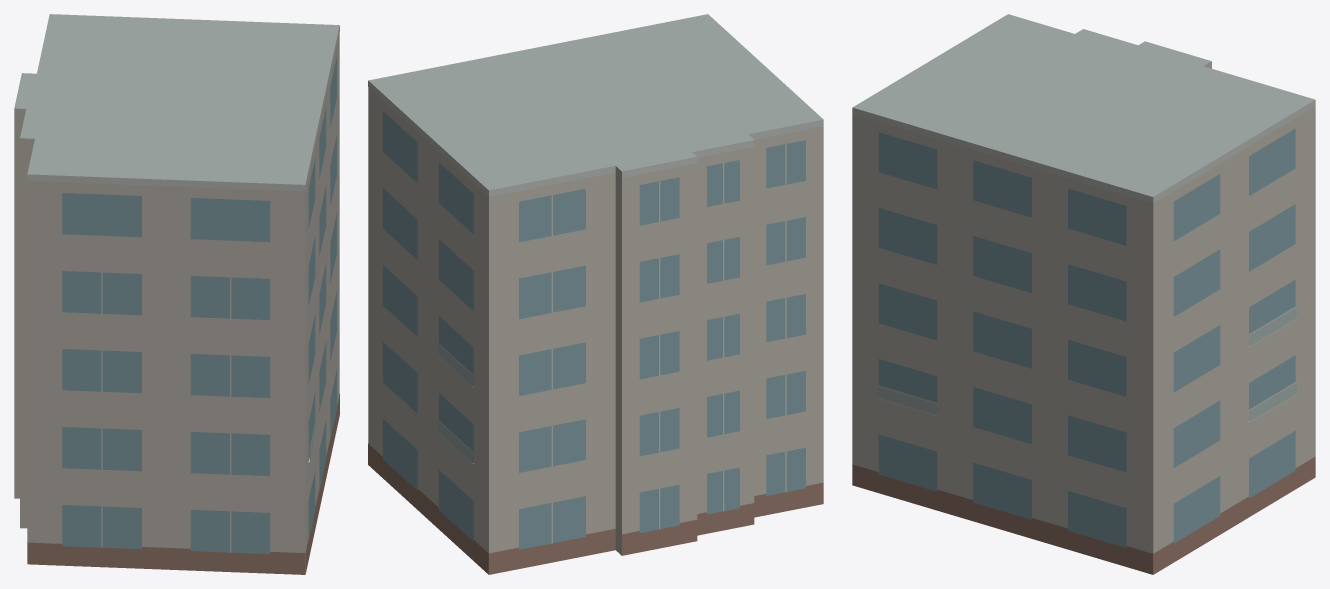
File: survey-upis-32667752.glb
3 views of the same model, side by side, from view 1: azimuth 30°, elevation 25°; view 2: azimuth 150°, elevation 25°; view 3: azimuth 270°, elevation 25° (orthographic). The views are drawn at different scales.
Visible parts, largest first — view 1: survey-upis-32667752.tmp; view 2: survey-upis-32667752.tmp; view 3: survey-upis-32667752.tmp.
Boxes of the visible parts, left/top/right/bottom form: survey-upis-32667752.tmp: left=14, top=14, right=339, bottom=574; survey-upis-32667752.tmp: left=368, top=14, right=823, bottom=574; survey-upis-32667752.tmp: left=852, top=14, right=1315, bottom=574.
Size of the model in its own units: 14.87 by 14.3 by 15.9.
